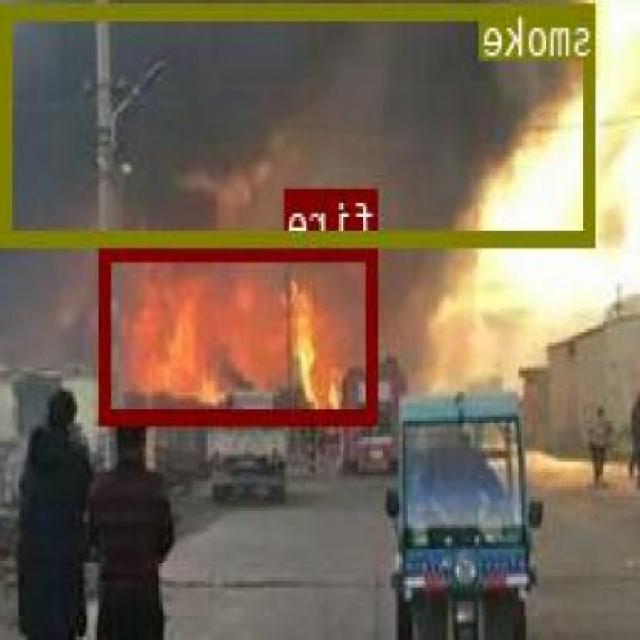smoke: (5, 3, 598, 242)
